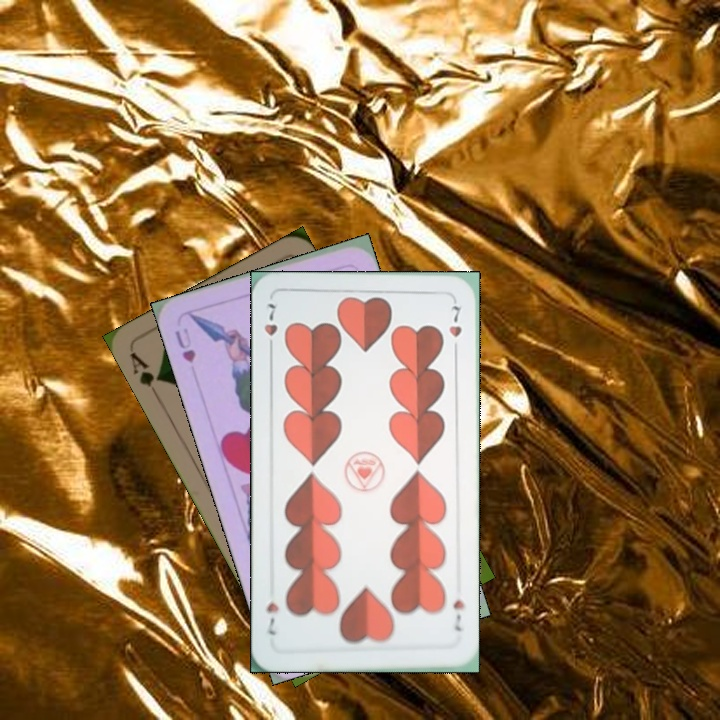GA: (125, 348, 166, 390)
H7: (260, 300, 280, 356), (449, 596, 467, 634)
HU: (170, 323, 199, 366)
